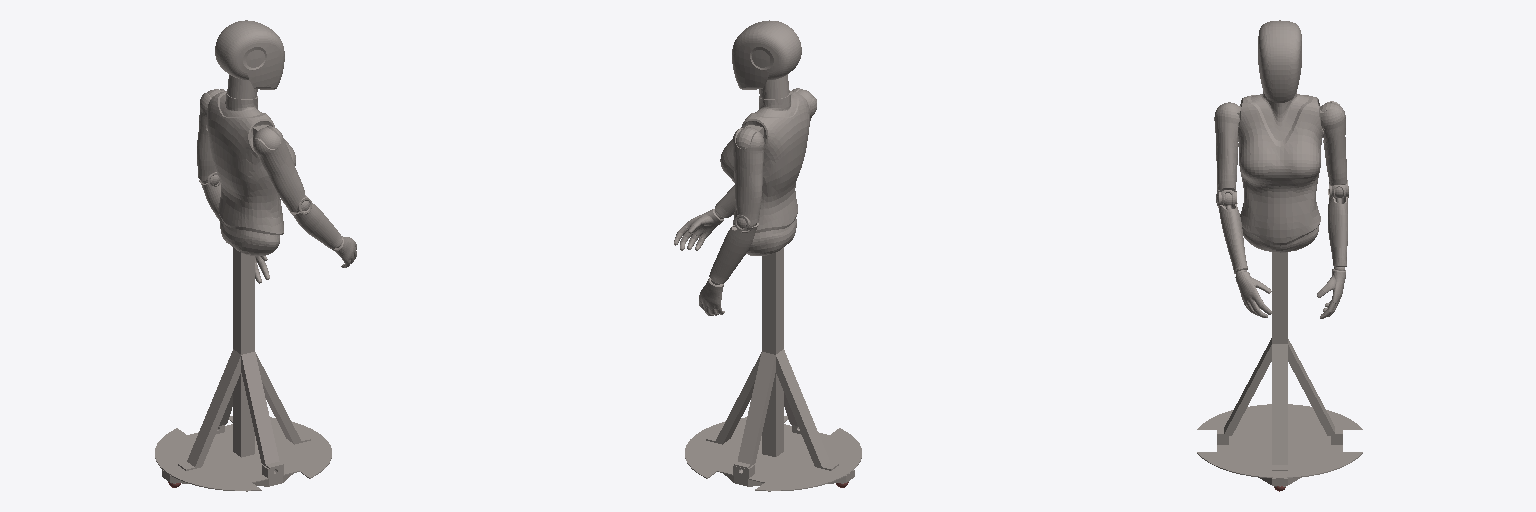
robot.urdf — test_robot:
<?xml version="1.0" encoding="utf-8"?>
<!-- This URDF was automatically created by SolidWorks to URDF Exporter! Originally created by [author] ([email redacted]) 
     Commit Version: 1.6.0-4-g7f85cfe  Build Version: 1.6.7995.38578
     For more information, please see http://wiki.ros.org/sw_urdf_exporter -->
<robot
  name="test_robot">
  <link
    name="base_link">
    <inertial>
      <origin
        xyz="0 0 0"
        rpy="0 0 0" />
      <mass
        value="32.2445875633999" />
      <inertia
        ixx="1.42366812493727"
        ixy="0.00117725941495782"
        ixz="0.0336818751080011"
        iyy="1.40774462598815"
        iyz="-0.00540818136662138"
        izz="0.250061638265402" />
    </inertial>
    <visual>
      <!-- <origin
        xyz="0 0 0"
        rpy="0 0 0" /> -->
      <geometry>
        <mesh
          filename="package://smrr_simulation/meshes/base_link.STL" />
      </geometry>
      <material
        name="">
        <color
          rgba="0.643137254901961 0.615686274509804 0.6 1" />
      </material>
    </visual>
    <collision>
      <!-- <origin
        xyz="0 0 0"
        rpy="0 0 0" /> -->
      <geometry>
        <mesh
          filename="package://smrr_simulation/meshes/base_link.STL" />
      </geometry>
    </collision>
  </link>
  <link
    name="right_wheel">
    <inertial>
      <!-- <origin
        xyz="3.0462E-06 6.7239E-06 -0.43311"
        rpy="0 0 0" /> -->
      <mass
        value="0.98982" />
      <inertia
        ixx="0.0016792"
        ixy="6.5317E-09"
        ixz="-1.6467E-07"
        iyy="0.0016793"
        iyz="-3.6346E-07"
        izz="0.0028869" />
    </inertial>
    <visual>
      <!-- <origin
        xyz="0 0 0"
        rpy="0 0 0" /> -->
      <geometry>
        <mesh
          filename="package://smrr_simulation/meshes/right_wheel.STL" />
      </geometry>
      <material
        name="">
        <color
          rgba="0.2 0.2 0.2 1" />
      </material>
    </visual>
    <collision>
      <!-- <origin
        xyz="0 0 0"
        rpy="0 0 0" /> -->
      <geometry>
        <mesh
          filename="package://smrr_simulation/meshes/right_wheel.STL" />
      </geometry>
    </collision>
  </link>
  <joint
    name="right_wheel_joint"
    type="continuous">
    <origin
      xyz="-0.0024494 0.2011 0.0184"
      rpy="-1.5708 0 0" />
    <parent
      link="base_link" />
    <child
      link="right_wheel" />
    <axis
      xyz="0 0 1" />
  </joint>
  <link
    name="left_wheel">
    <inertial>
      <!-- <origin
        xyz="-8.3868E-07 7.334E-06 0.031111"
        rpy="0 0 0" /> -->
      <mass
        value="0.98982" />
      <inertia
        ixx="0.0016793"
        ixy="-1.1203E-08"
        ixz="-4.5335E-08"
        iyy="0.0016792"
        iyz="3.9644E-07"
        izz="0.0028869" />
    </inertial>
    <visual>
      <!-- <origin
        xyz="0 0 0"
        rpy="0 0 0" /> -->
      <geometry>
        <mesh
          filename="package://smrr_simulation/meshes/left_wheel.STL" />
      </geometry>
      <material
        name="">
        <color
          rgba="0.2 0.2 0.2 1" />
      </material>
    </visual>
    <collision>
      <!-- <origin
        xyz="0 0 0"
        rpy="0 0 0" /> -->
      <geometry>
        <mesh
          filename="package://smrr_simulation/meshes/left_wheel.STL" />
      </geometry>
    </collision>
  </link>
  <joint
    name="left_wheel_joint"
    type="continuous">
    <!-- <origin
      xyz="-0.0024494 0.2011 0.0184"
      rpy="-1.5708 0 0" /> -->
    <parent
      link="base_link" />
    <child
      link="left_wheel" />
    <axis
      xyz="0 0 1" />
  </joint>
  <link
    name="front_caster">
    <inertial>
      <origin
        xyz="0.24255 9.9553E-05 -0.04"
        rpy="0 0 0" />
      <mass
        value="0.03351" />
      <inertia
        ixx="5.3617E-06"
        ixy="0"
        ixz="0"
        iyy="5.3617E-06"
        iyz="0"
        izz="5.3617E-06" />
    </inertial>
    <visual>
      <!-- <origin
        xyz="0 0 0"
        rpy="0 0 0" /> -->
      <geometry>
        <mesh
          filename="package://smrr_simulation/meshes/front_caster.STL" />
      </geometry>
      <material
        name="">
        <color
          rgba="0.53725 0.34902 0.33725 1" />
      </material>
    </visual>
    <collision>
      <!-- <origin
        xyz="0 0 0"
        rpy="0 0 0" /> -->
      <geometry>
        <mesh
          filename="package://smrr_simulation/meshes/front_caster.STL" />
      </geometry>
    </collision>
  </link>
  <joint
    name="front_caster_joint"
    type="continuous">
    <!-- <origin
      xyz="0 0 0"
      rpy="0 0 0" /> -->
    <parent
      link="base_link" />
    <child
      link="front_caster" />
    <axis
      xyz="1 0 0" />
  </joint>
  <link
    name="back_caster">
    <inertial>
      <!-- <origin
        xyz="-0.24745 9.9553E-05 -0.04"
        rpy="0 0 0" /> -->
      <mass
        value="0.03351" />
      <inertia
        ixx="5.3617E-06"
        ixy="0"
        ixz="0"
        iyy="5.3617E-06"
        iyz="0"
        izz="5.3617E-06" />
    </inertial>
    <visual>
      <!-- <origin
        xyz="0 0 0"
        rpy="0 0 0" /> -->
      <geometry>
        <mesh
          filename="package://smrr_simulation/meshes/back_caster.STL" />
      </geometry>
      <material
        name="Aluminium">
        <color
          rgba="0.53725 0.34902 0.33725 1" />
      </material>
    </visual>
    <collision>
      <!-- <origin
        xyz="0 0 0"
        rpy="0 0 0" /> -->
      <geometry>
        <mesh
          filename="package://smrr_simulation/meshes/back_caster.STL" />
      </geometry>
    </collision>
  </link>
  <joint
    name="back_caster_joint"
    type="continuous">
    <!-- <origin
      xyz="0 0 0"
      rpy="0 0 0" /> -->
    <parent
      link="base_link" />
    <child
      link="back_caster" />
    <axis
      xyz="1 0 0" />
  </joint>
</robot>

--- What the picture shows (computed from the rendered views, not written in the file) ---
Views: 3 orthographic renders of the robot side by side, from view 1: azimuth 30°, elevation 25°; view 2: azimuth 150°, elevation 25°; view 3: azimuth 270°, elevation 25°.
Model test_robot with 5 links and 4 joints (4 continuous), rooted at base_link, posed every joint at zero.
Visible links, largest first — view 1: base_link; view 2: base_link; view 3: base_link.
Link boxes in pixels (x1,y1,x2,y2): base_link: (155,20,356,491); base_link: (674,20,861,491); base_link: (1197,20,1362,486).
Bounding box of the posed robot: 0.6493 × 0.5231 × 1.52 m (x, y, z).
3 mesh visuals loaded from 5 distinct referenced files (3 binary STL); not drawn: 2 (reference not matched to a file when rendering).